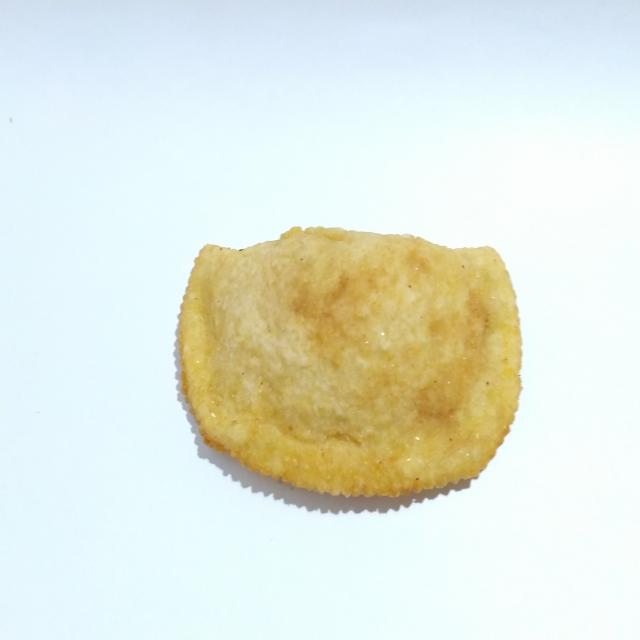Pastel_Mandio: (160, 211, 533, 514)
